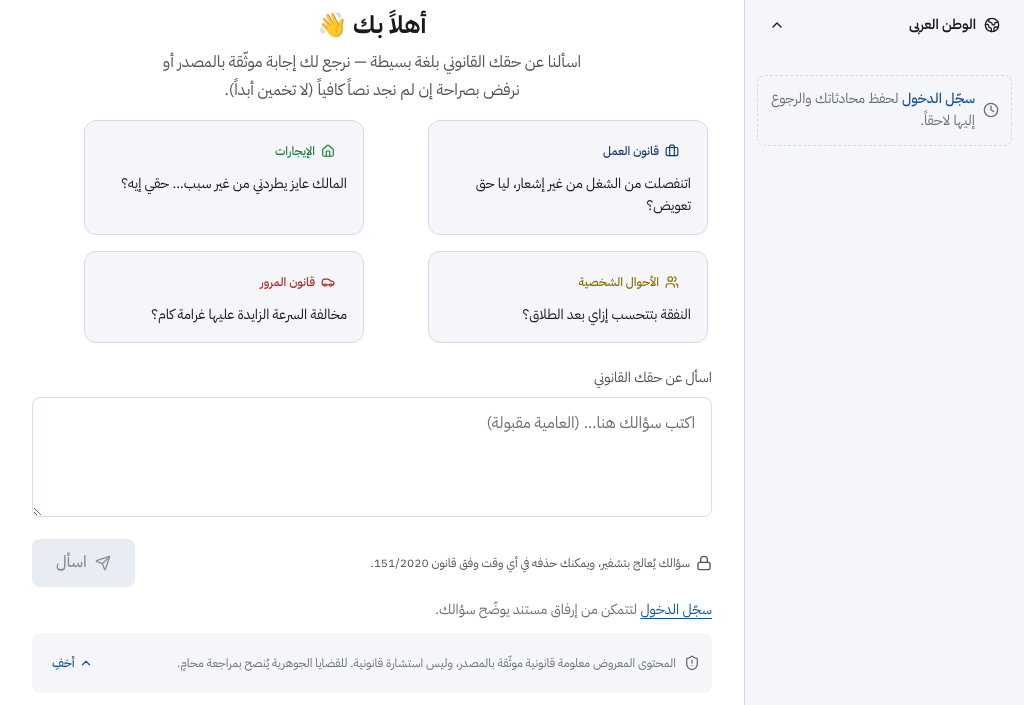
Scenario: ChatScreen › يعرض حالة الرفض (RefusalCard) عند استجابة refused
This screenshot has width=1024, height=705.
Type "إيه حكم شركة السوشيال ميديا؟" into the text box labelled "اسأل عن حقك القانوني" at {"x": 372, "y": 457}, box [32,397,712,517]
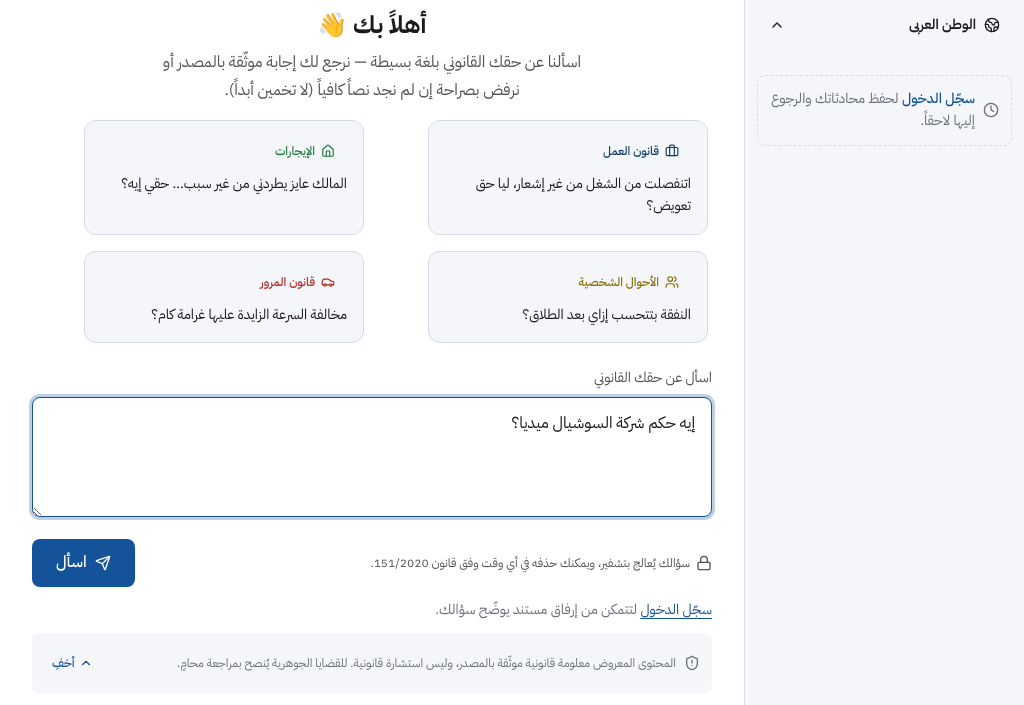
Click the button with aria-label "إرسال السؤال" at {"x": 83, "y": 562}, box [32,538,135,586]
(page scrolled)
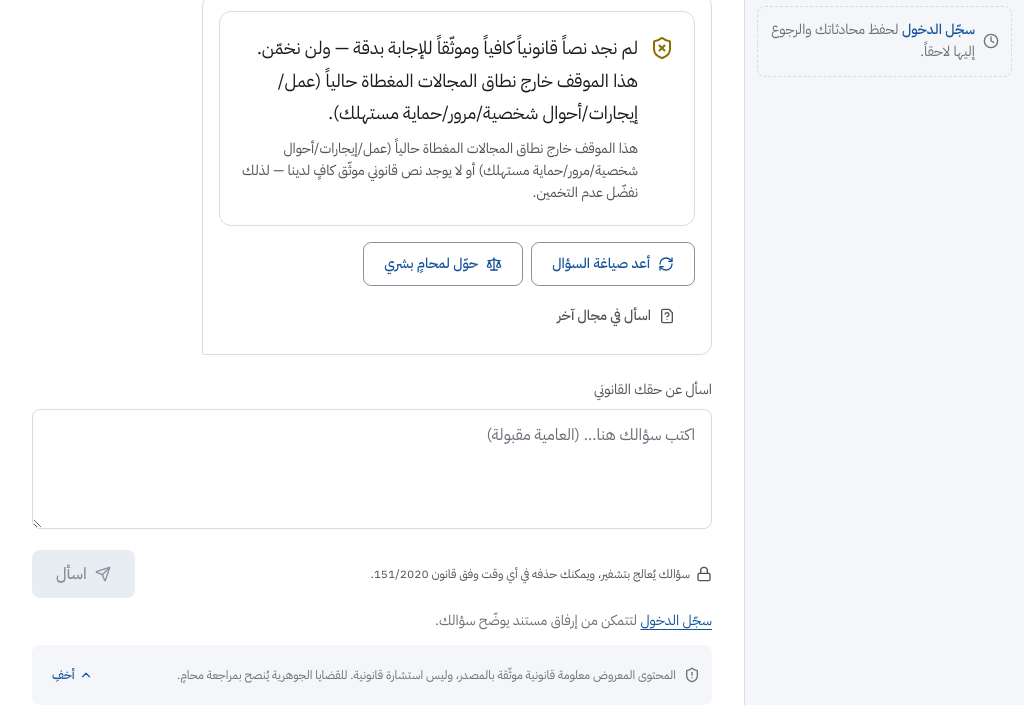
Result: the button "أعد صياغة السؤال" is shown at [531,242,695,286]
